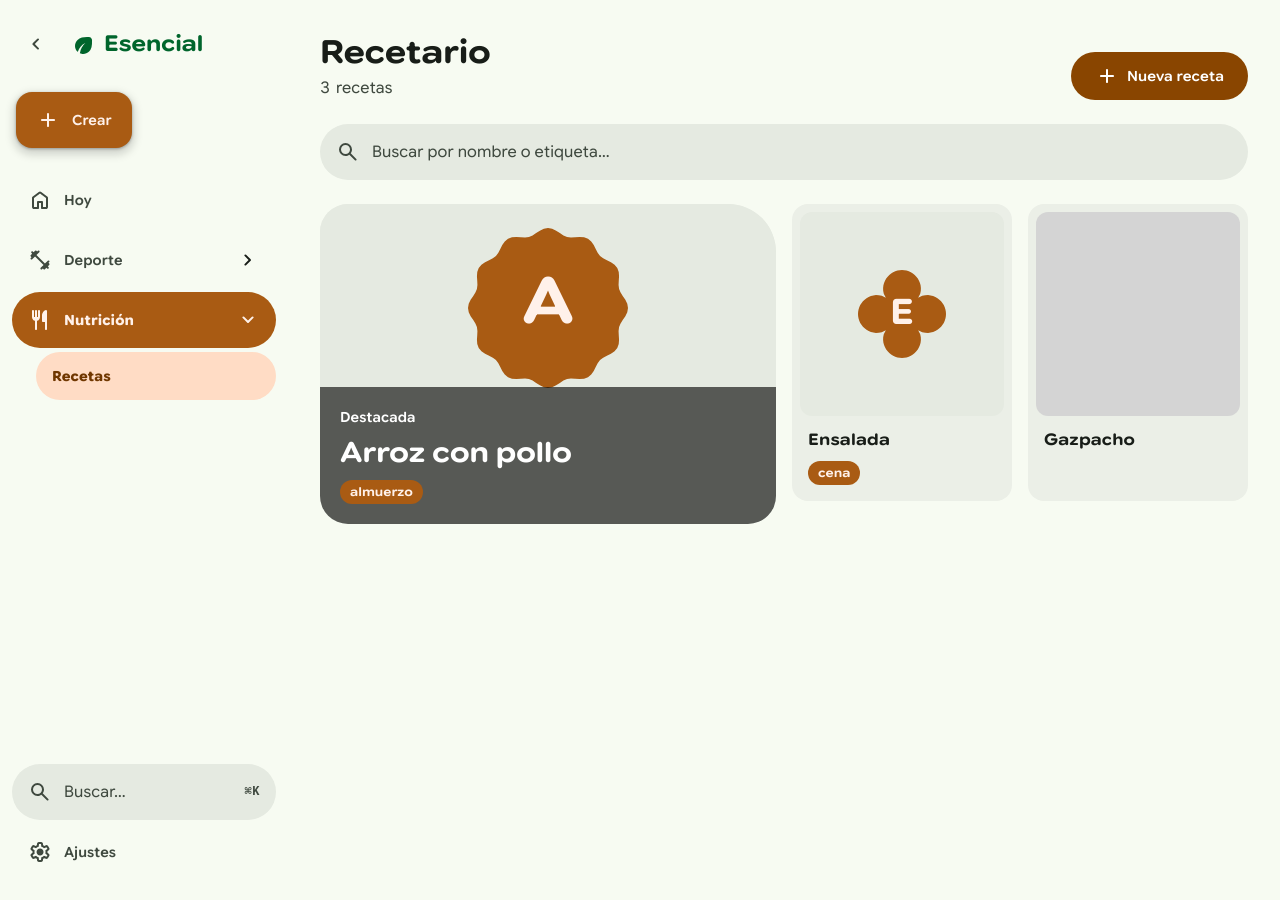
Test: /recetario book › search filters cards client-side without any fetch
Expected: the text "Arroz con pollo" is shown, [340, 435, 572, 470]
In the search field with placeholder "Buscar por nombre o etiqueta…": (802, 152) [372, 128, 1232, 176], type "arroz"
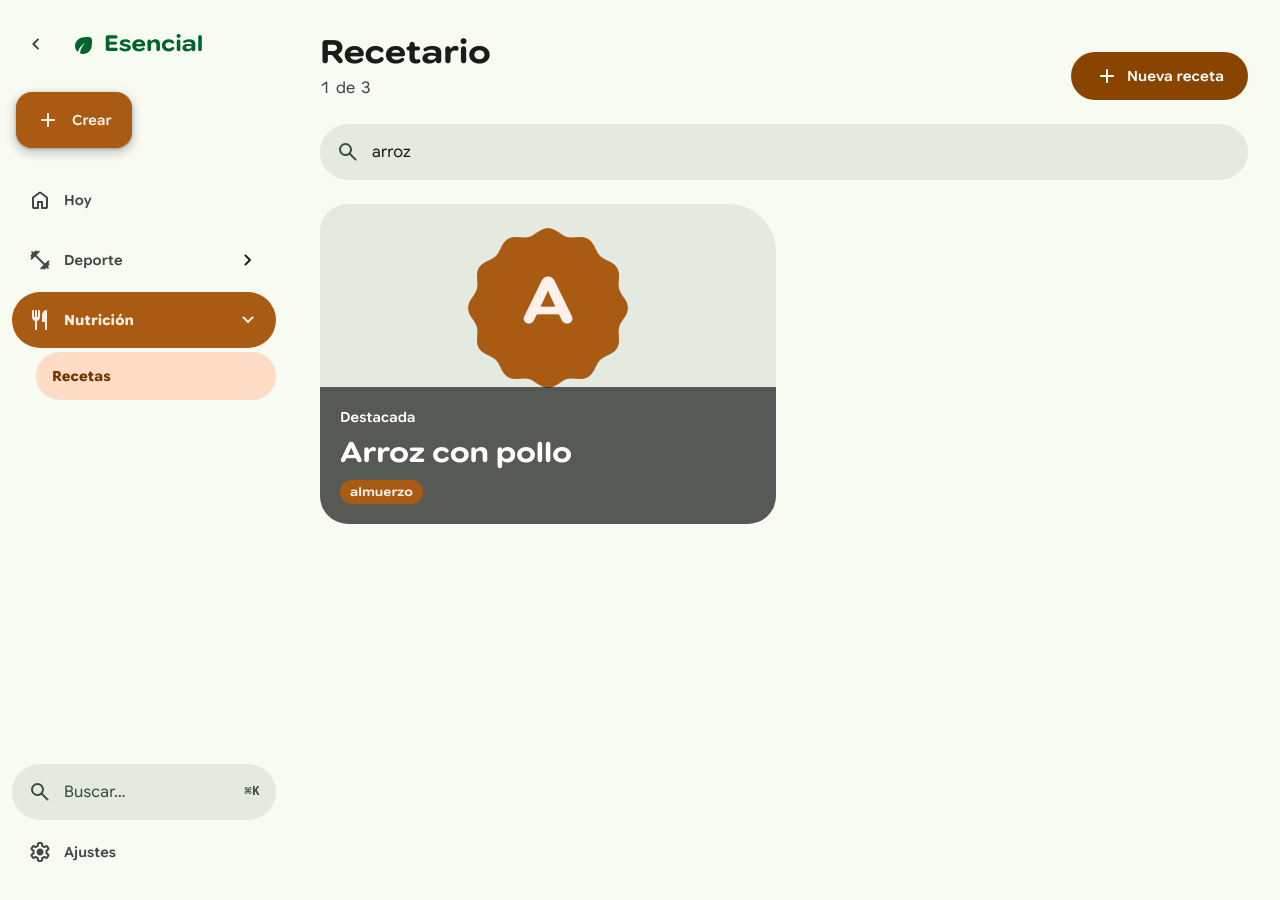
Expected: the text "Arroz con pollo" is shown, [340, 435, 572, 470]
Expected: the link "Ensalada" is gone
Clear the search field named "Buscar recetas": (802, 152) [372, 128, 1232, 176]
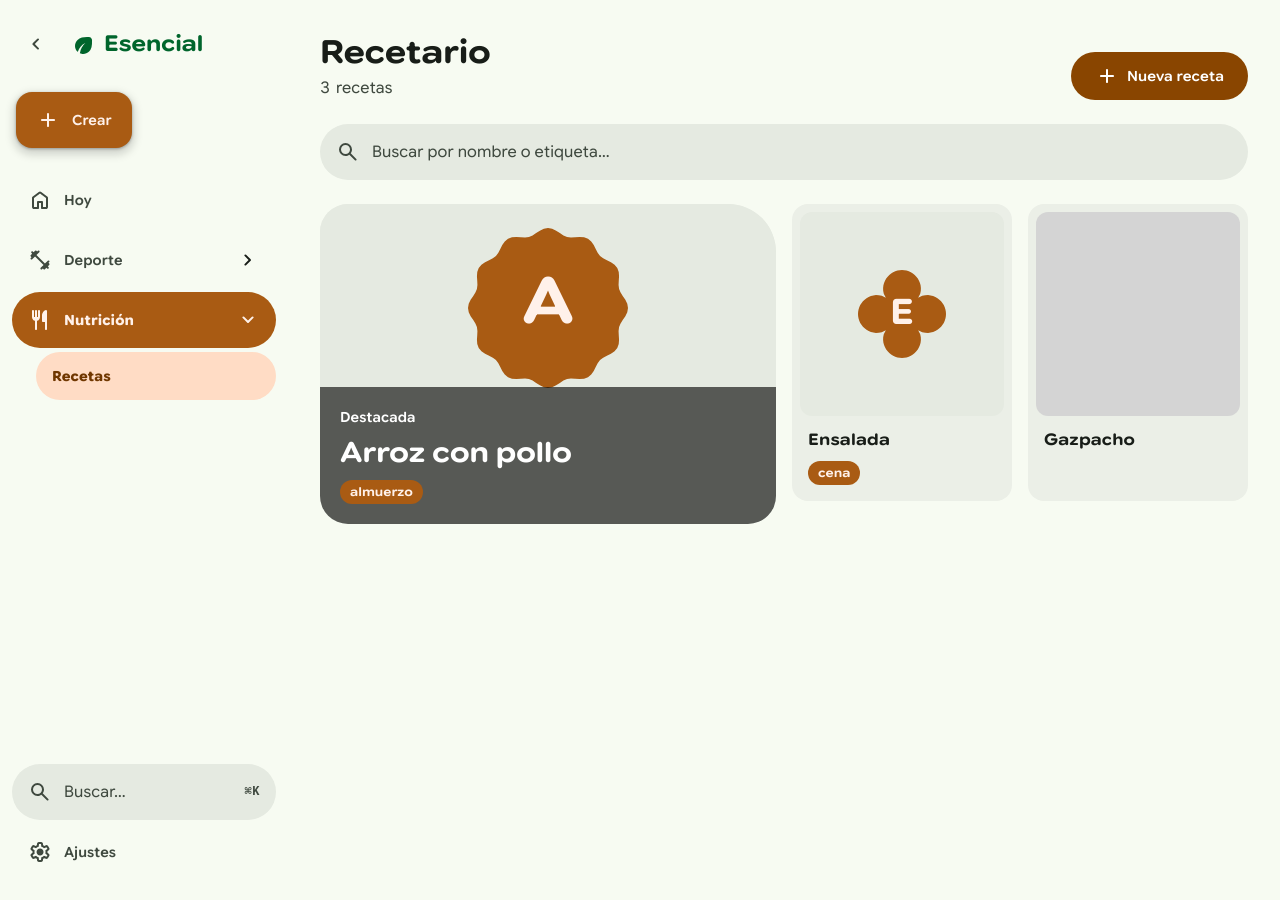
Expected: the text "Ensalada" is shown, [808, 430, 890, 450]
